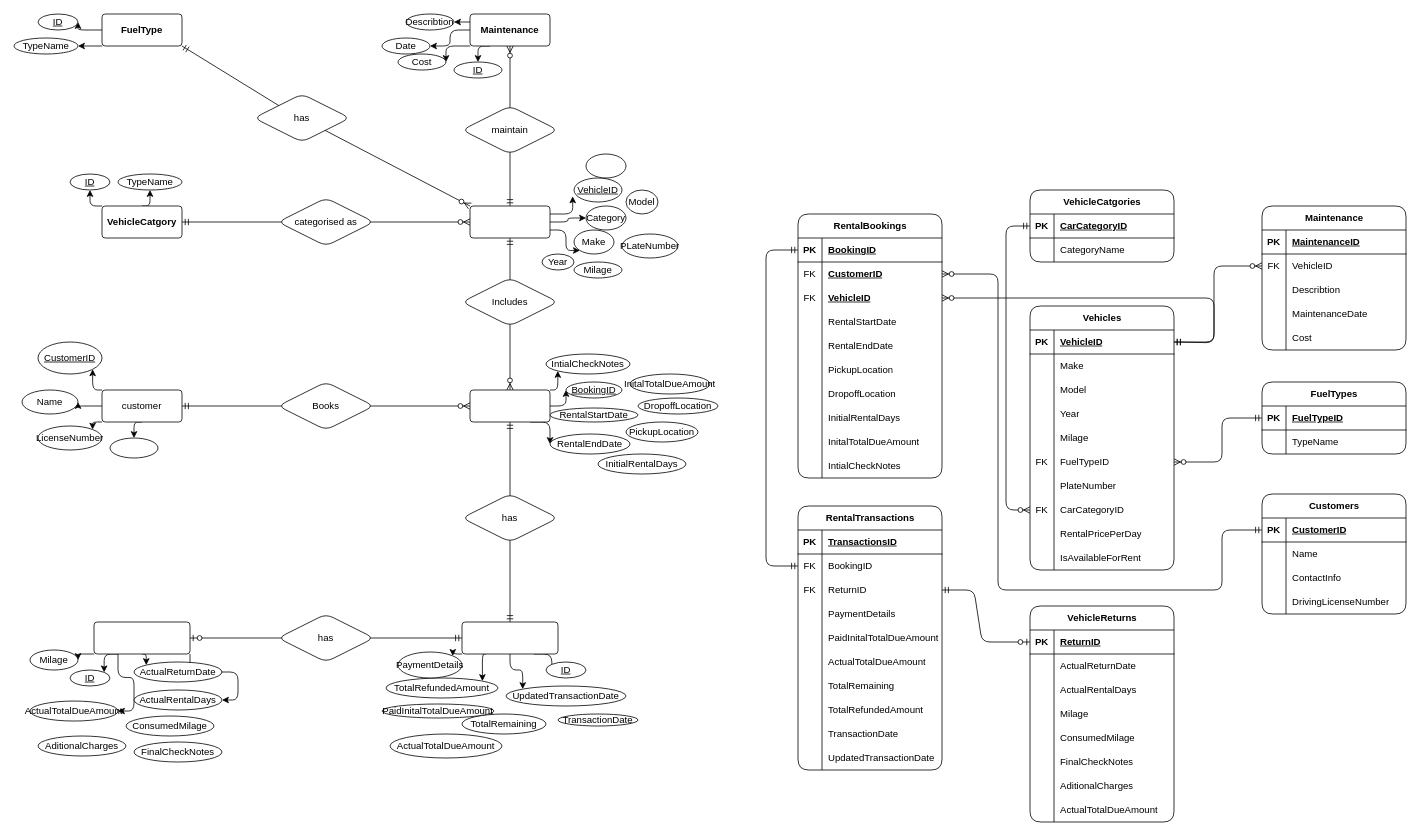
Some shapes in this 1420 by 836 pixel diagram are drawn without their labels. Each missing label, with the centre of its shape:
"Phone" goes at pixel 133 447.
"RentalBooking" goes at pixel 509 405.
"RentalRate" goes at pixel 605 165.
"RentalTransaction" goes at pixel 509 637.
"Vehicle" goes at pixel 509 221.
"VehicleReturn" goes at pixel 141 637.
